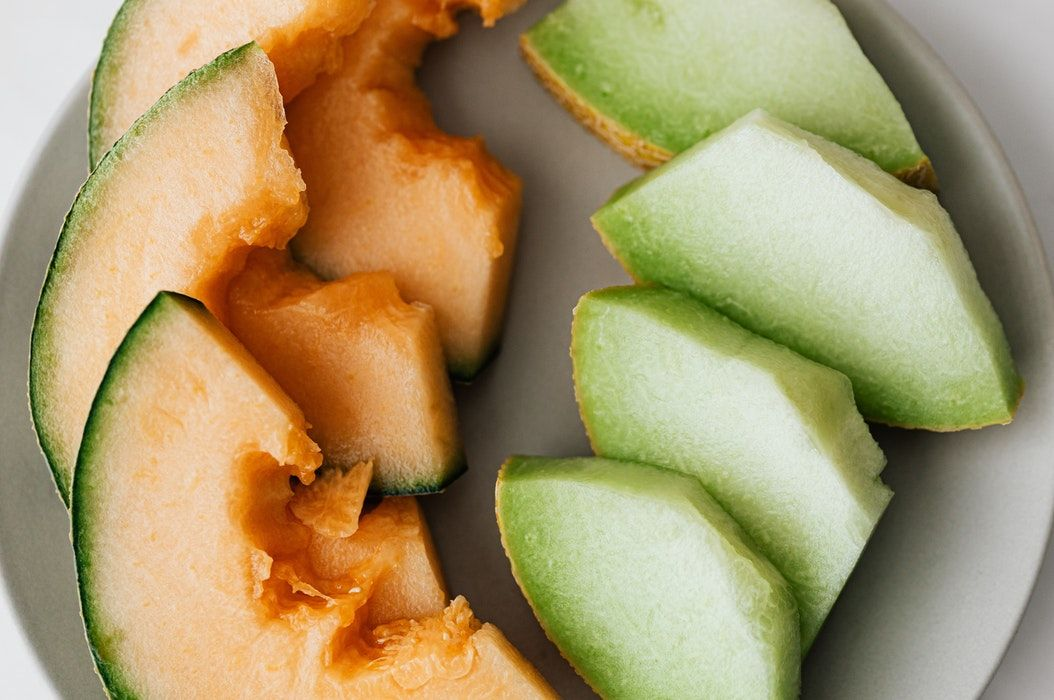Melon: (55, 309, 525, 700), (582, 118, 984, 401), (560, 278, 859, 588), (493, 441, 756, 700)
